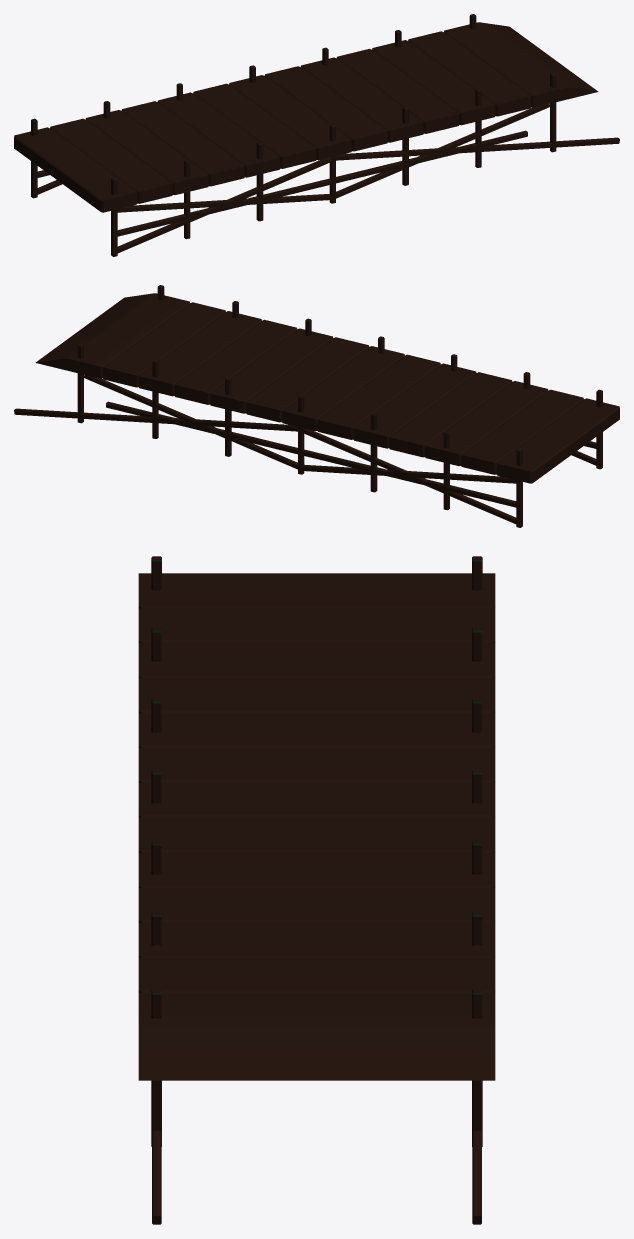
The model's file is Dock_FBX.fbx.
3 views of the same model, one above another, from view 1: azimuth 30°, elevation 25°; view 2: azimuth 150°, elevation 25°; view 3: azimuth 270°, elevation 25° (orthographic). The views are drawn at different scales.
Visible parts, largest first — view 1: Box151, Box167, Box166, Box177, Box171, Box174, Box156, Box158, Box152, Box153, Box157, Box154 (+2 smaller); view 2: Box151, Box169, Box168, Box170, Box176, Box175, Box163, Box165, Box159, Box160, Box164, Box161 (+2 smaller); view 3: Box151, Box166, Box168, Box159, Box152.
Part boxes in pixels (left/top/right/bottom): Box151: left=14, top=22, right=598, bottom=212; Box167: left=117, top=130, right=527, bottom=236; Box166: left=336, top=137, right=619, bottom=160; Box177: left=336, top=104, right=549, bottom=198; Box171: left=117, top=157, right=331, bottom=253; Box174: left=117, top=194, right=331, bottom=212; Box156: left=256, top=142, right=263, bottom=221; Box158: left=111, top=177, right=117, bottom=256; Box152: left=550, top=72, right=556, bottom=152; Box153: left=475, top=88, right=481, bottom=167; Box157: left=184, top=159, right=190, bottom=239; Box154: left=402, top=106, right=408, bottom=185; Box151: left=35, top=293, right=619, bottom=483; Box169: left=106, top=401, right=516, bottom=507; Box168: left=14, top=408, right=297, bottom=431; Box170: left=302, top=428, right=516, bottom=524; Box176: left=84, top=375, right=297, bottom=469; Box175: left=302, top=464, right=516, bottom=483; Box163: left=370, top=413, right=377, bottom=492; Box165: left=516, top=448, right=522, bottom=527; Box159: left=77, top=343, right=83, bottom=423; Box160: left=152, top=359, right=158, bottom=438; Box164: left=443, top=430, right=449, bottom=510; Box161: left=225, top=377, right=231, bottom=456; Box151: left=138, top=573, right=495, bottom=1080; Box166: left=152, top=1130, right=161, bottom=1224; Box168: left=472, top=1130, right=481, bottom=1224; Box159: left=472, top=989, right=482, bottom=1146; Box152: left=151, top=989, right=161, bottom=1146.
Bounding box in the file's own units: 3747 × 602 × 1110.
